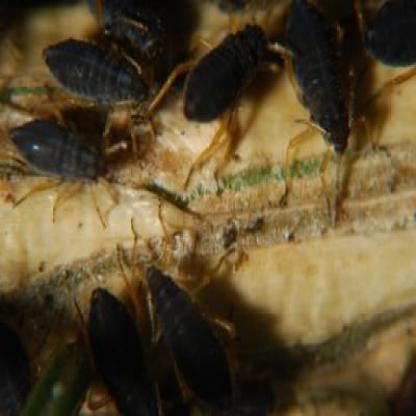aphid: (134, 260, 235, 414), (6, 96, 131, 219), (65, 269, 168, 416), (279, 11, 363, 165), (178, 16, 280, 140), (38, 31, 151, 129), (3, 302, 83, 416), (104, 3, 204, 76)
